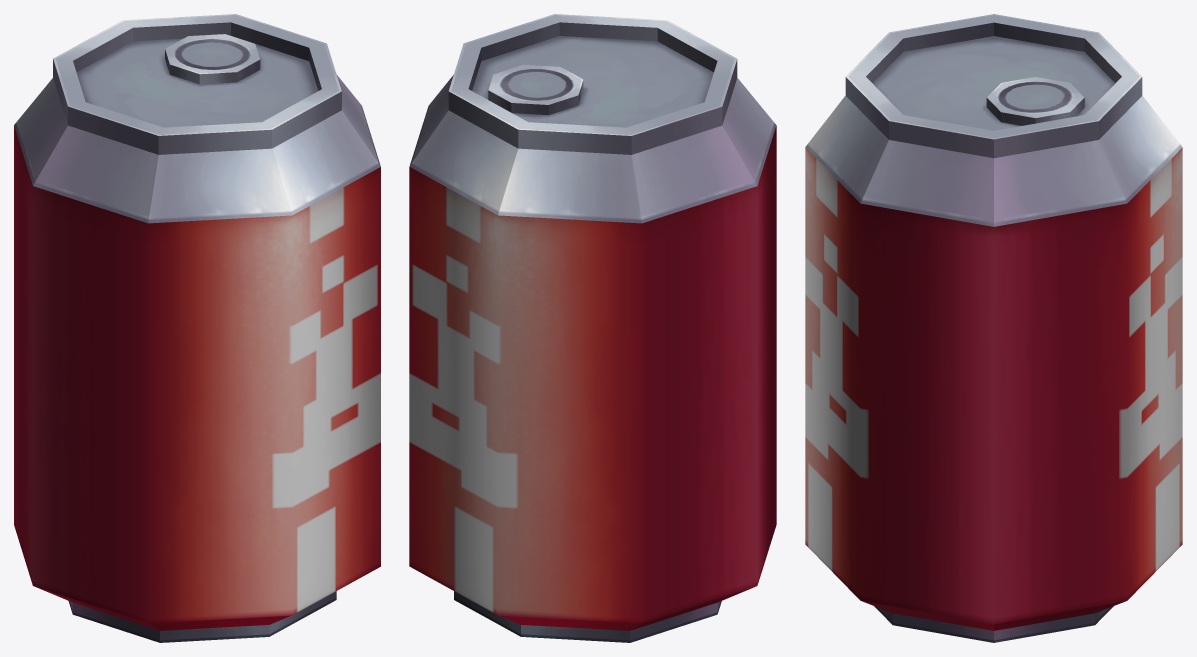
The model's file is Boost_EnergyDrink_Base_0_Mod.FBX.
3 renders of one model, left to right at view 1: azimuth 30°, elevation 25°; view 2: azimuth 150°, elevation 25°; view 3: azimuth 270°, elevation 25°, orthographic.
Parts seen in each view (by area): view 1: Boost_EnergyDrink_Base_0_Mod; view 2: Boost_EnergyDrink_Base_0_Mod; view 3: Boost_EnergyDrink_Base_0_Mod.
Part boxes in pixels (x1,y1,x2,y2): Boost_EnergyDrink_Base_0_Mod: (14,14,380,642); Boost_EnergyDrink_Base_0_Mod: (409,14,776,642); Boost_EnergyDrink_Base_0_Mod: (805,14,1182,642).
Bounding box in the file's own units: 19.6 × 28.99 × 19.6.
